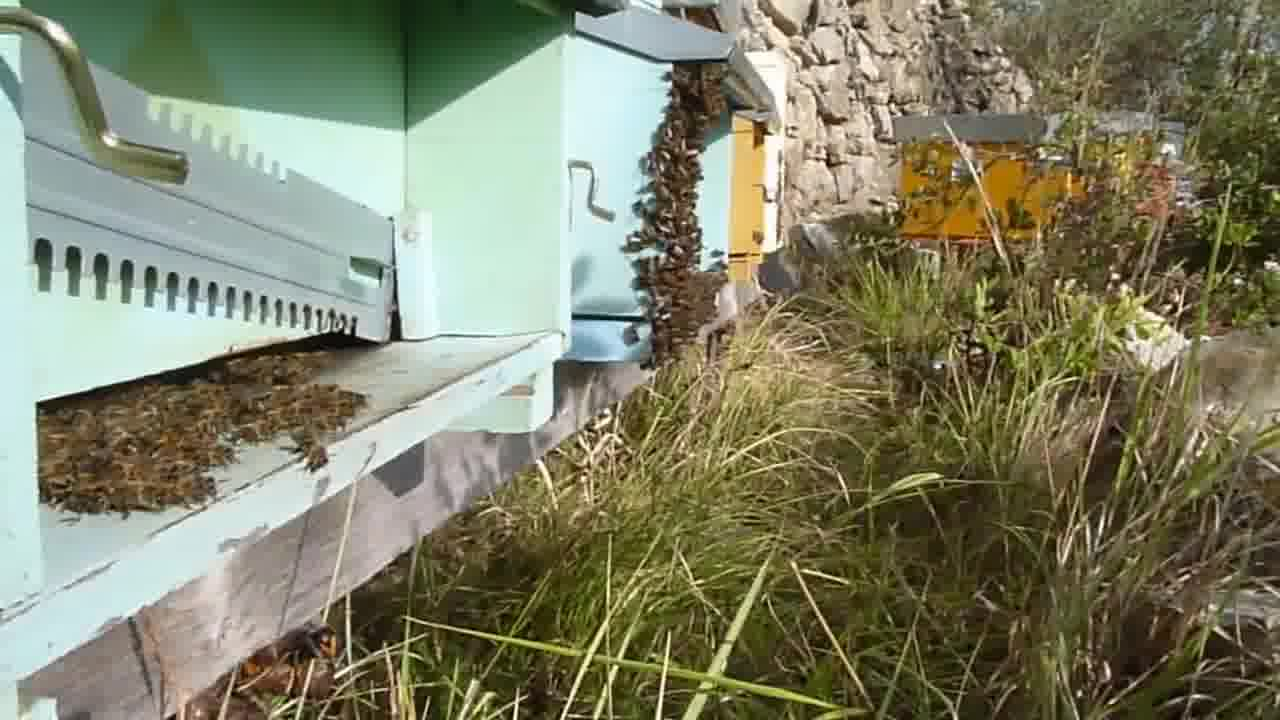bee: (40, 405, 219, 509), (216, 380, 364, 439), (634, 286, 718, 365), (622, 220, 720, 286), (661, 59, 730, 137), (637, 140, 706, 218), (277, 426, 344, 483), (228, 349, 321, 385)
hornet: (242, 617, 341, 676)
